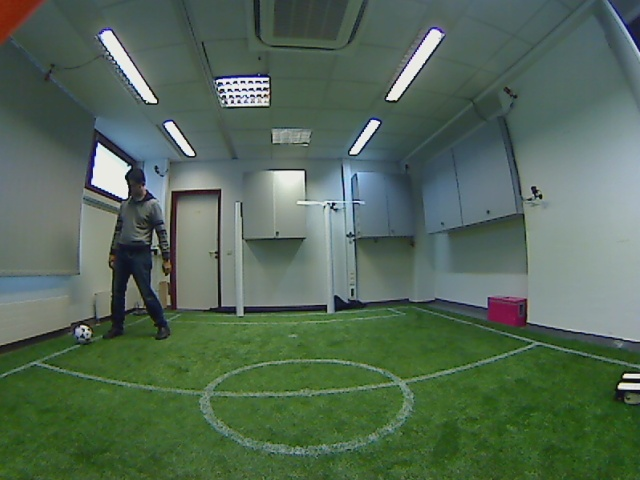ball: (70, 322, 97, 346)
